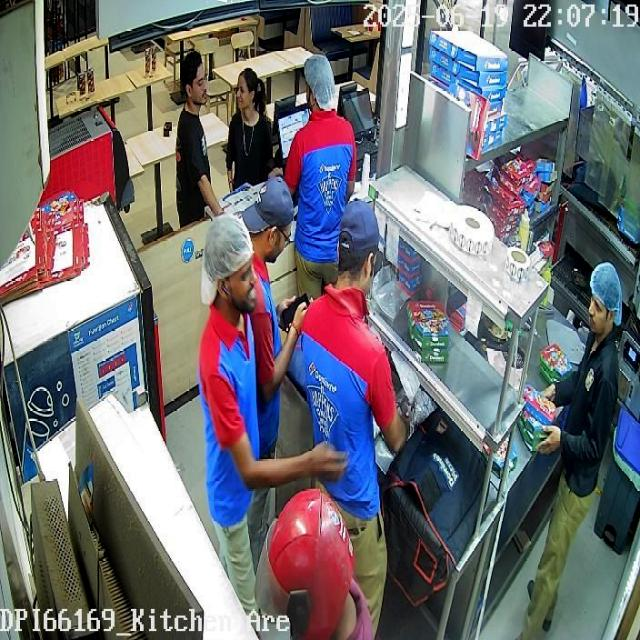helmet: (252, 486, 356, 639)
